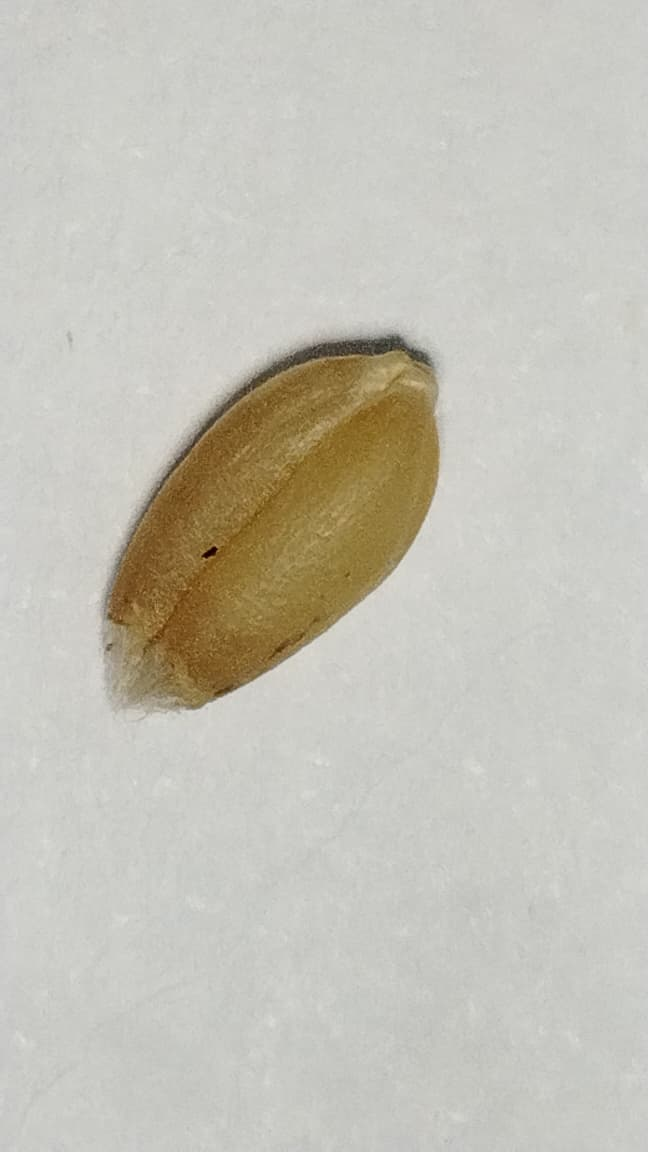healthy: (106, 338, 439, 709)
